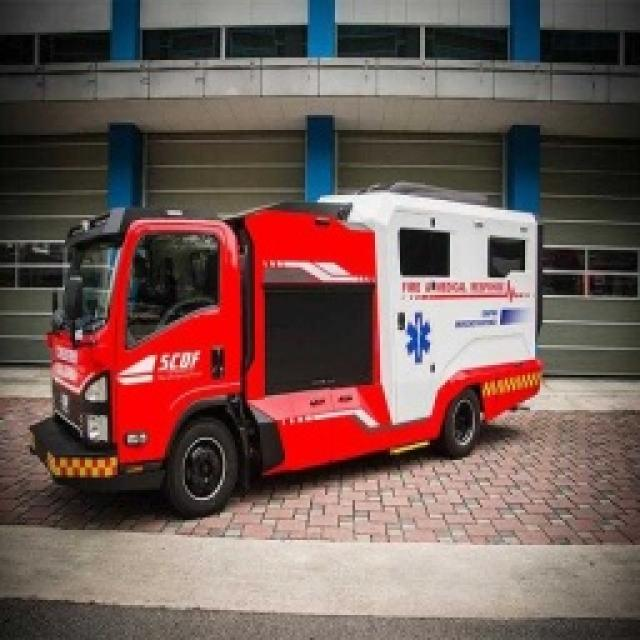emergency-vehicle: (32, 150, 582, 519)
